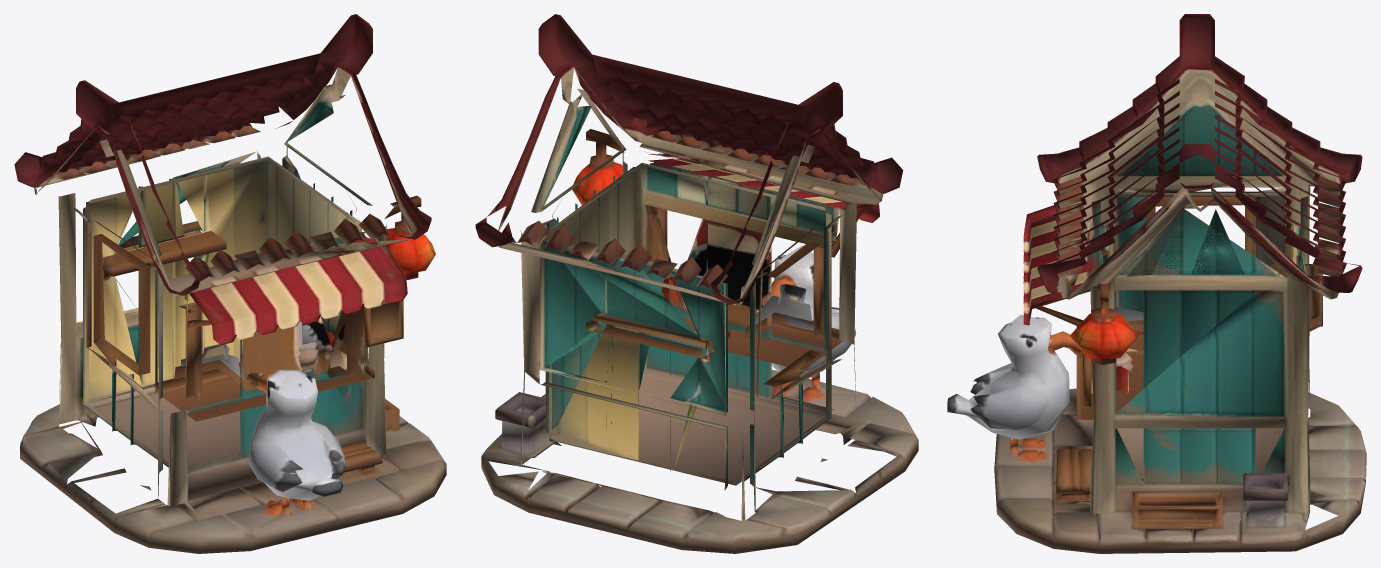
File: seagull.glb
The picture shows the model from 3 angles, left to right: view 1: azimuth 30°, elevation 25°; view 2: azimuth 150°, elevation 25°; view 3: azimuth 270°, elevation 25°; orthographic projection. The views are drawn at different scales.
Visible parts, largest first — view 1: tripo_node_4382d0cb-80b9-464a-9002-c433c86caa2b; view 2: tripo_node_4382d0cb-80b9-464a-9002-c433c86caa2b; view 3: tripo_node_4382d0cb-80b9-464a-9002-c433c86caa2b.
Boxes of the visible parts, x1,y1,x2,y2 form: tripo_node_4382d0cb-80b9-464a-9002-c433c86caa2b: [14, 14, 446, 553]; tripo_node_4382d0cb-80b9-464a-9002-c433c86caa2b: [475, 14, 918, 553]; tripo_node_4382d0cb-80b9-464a-9002-c433c86caa2b: [947, 14, 1366, 553].
Size of the model in its own units: 0.8065 by 0.979 by 0.9368.
1 material, 1 textured.
